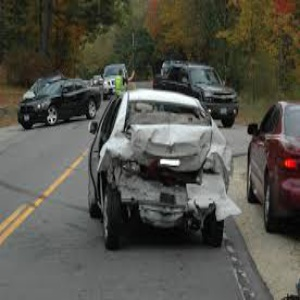bonnet: (127, 119, 209, 176)
bumper: (117, 176, 238, 234)
